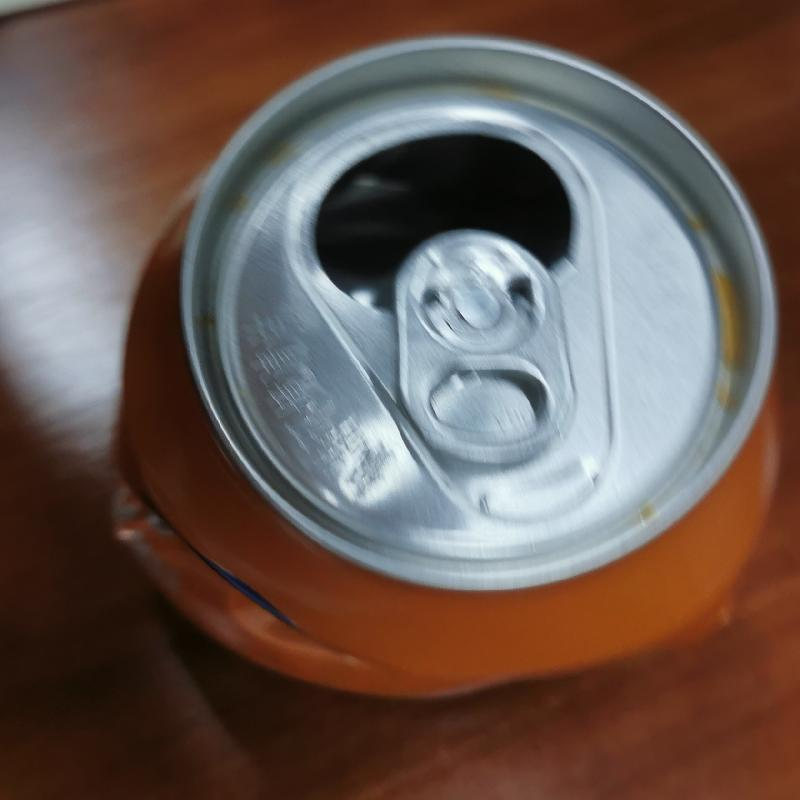cans: (110, 31, 788, 709)
